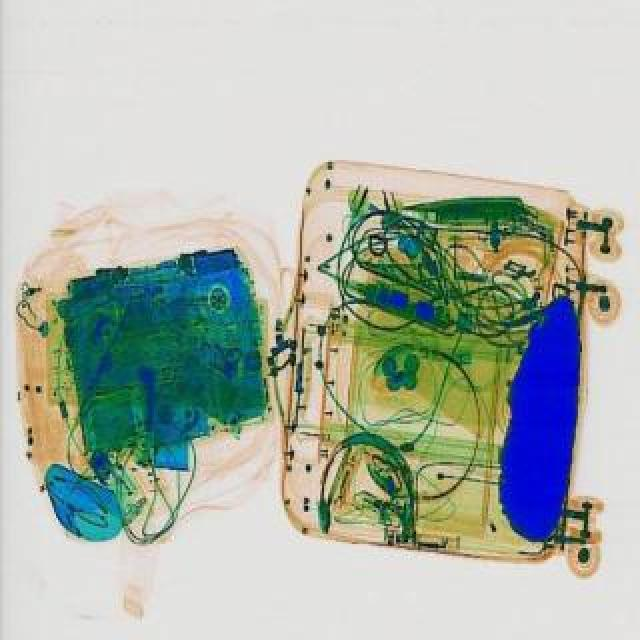knife: (398, 196, 520, 216)
